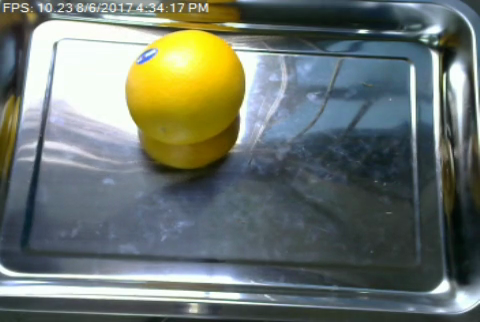Orange: (124, 28, 244, 144)
